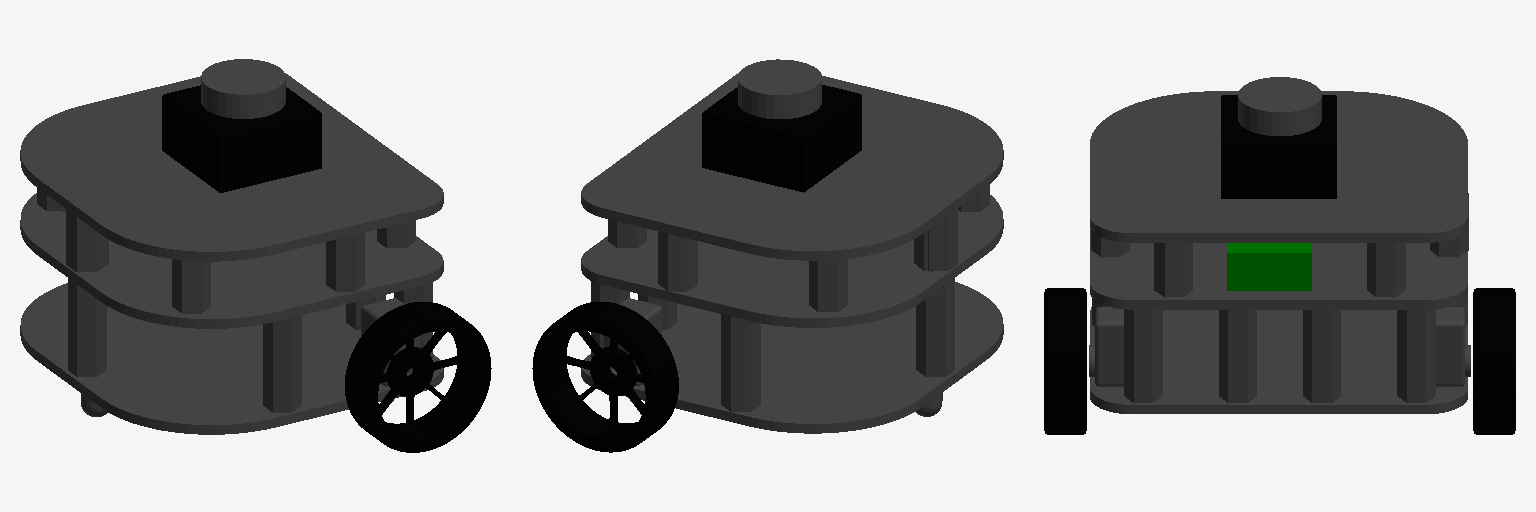
robot.urdf — supermarketbot:
<?xml version="1.0" ?>
<!-- =================================================================================== -->
<!-- |    This document was autogenerated by xacro from supermarketbot.xacro           | -->
<!-- |    EDITING THIS FILE BY HAND IS NOT RECOMMENDED                                 | -->
<!-- =================================================================================== -->
<robot name="supermarketbot">
  <mujoco>
    <compiler discardvisual="false" balanceinertia="true" meshdir="."/>
  </mujoco>
  <!--Links-->
  <link name="base_link"/>
  <link name="chassis_link">
    <inertial>
      <origin rpy="0 0 0" xyz="0 0 0"/>
      <mass value="1.0"/>
      <!-- Approximate box inertia: Ixx = (1/12)m*(h^2 + d^2), etc. -->
      <inertia ixx="0.02" ixy="0" ixz="0" iyy="0.03" iyz="0" izz="0.015"/>
    </inertial>
    <visual>
      <origin rpy="0 0 0" xyz="0 0 0"/>
      <geometry>
        <mesh filename="package://amr_bot/models/meshes/chassis_l1.stl" scale="0.001 0.001 0.001"/>
      </geometry>
      <material name="1">
        <color rgba="0.3 0.3 0.3 1.0"/>
      </material>
    </visual>
    <visual>
      <origin rpy="0 0 0" xyz="0 0 0"/>
      <geometry>
        <mesh filename="package://amr_bot/models/meshes/chassis_l2.stl" scale="0.001 0.001 0.001"/>
      </geometry>
      <material name="base_link_material">
        <color rgba="0.3 0.3 0.3 1.0"/>
      </material>
    </visual>
    <visual>
      <origin rpy="0 0 0" xyz="0 0 0"/>
      <geometry>
        <mesh filename="package://amr_bot/models/meshes/chassis_l3.stl" scale="0.001 0.001 0.001"/>
      </geometry>
      <material name="2">
        <color rgba="0.3 0.3 0.3 1.0"/>
      </material>
    </visual>
    <collision>
      <origin rpy="0 0 0" xyz="0 0.009 0.066"/>
      <geometry>
        <box size="0.16065 0.18 0.1"/>
      </geometry>
    </collision>
    <collision>
      <origin xyz="-0.064 0.0105 0.01"/>
      <geometry>
        <cylinder length="0.02" radius="0.009"/>
      </geometry>
    </collision>
  </link>
  <link name="left_wheel_link">
    <inertial>
      <origin rpy="0 0 0" xyz="0 0 0"/>
      <mass value="0.2"/>
      <inertia ixx="0.0001" ixy="0" ixz="0" iyy="0.0002" iyz="0" izz="0.0001"/>
    </inertial>
    <!--Base Link Layer 1 mesh-->
    <visual>
      <origin rpy="0 0 3.141592653589793" xyz="0 0 0"/>
      <geometry>
        <mesh filename="package://amr_bot/models/meshes/wheel.stl" scale="0.001 0.001 0.001"/>
      </geometry>
      <material name="3">
        <color rgba="0.02 0.02 0.02 1.0"/>
      </material>
    </visual>
    <collision>
      <origin rpy="1.57 0 0" xyz="0 0 0"/>
      <geometry>
        <cylinder length="0.02" radius="0.035"/>
      </geometry>
    </collision>
  </link>
  <link name="right_wheel_link">
    <inertial>
      <origin rpy="0 0 0" xyz="0 0 0"/>
      <mass value="0.2"/>
      <inertia ixx="0.0001" ixy="0" ixz="0" iyy="0.0002" iyz="0" izz="0.0001"/>
    </inertial>
    <visual>
      <origin rpy="0 0 0" xyz="0 0 0"/>
      <geometry>
        <mesh filename="package://amr_bot/models/meshes/wheel.stl" scale="0.001 0.001 0.001"/>
      </geometry>
      <material name="4">
        <color rgba="0.02 0.02 0.02 1.0"/>
      </material>
    </visual>
    <collision>
      <origin rpy="1.57 0 0" xyz="0.0 0.0 0.0"/>
      <geometry>
        <cylinder length="0.02" radius="0.035"/>
      </geometry>
    </collision>
  </link>
  <link name="lidar_link">
    <inertial>
      <origin rpy="0 0 0" xyz="0 0 0"/>
      <mass value="0.15"/>
      <inertia ixx="1e-4" ixy="0" ixz="0" iyy="1e-4" iyz="0" izz="2e-4"/>
    </inertial>
    <visual>
      <origin rpy="0 0 0" xyz="-0 -9e-06 -0.000115"/>
      <geometry>
        <mesh filename="package://amr_bot/models/meshes/lidar_base_link.stl" scale="0.001 0.001 0.001"/>
      </geometry>
      <material name="5">
        <color rgba="0.020 0.020 0.020 1.0"/>
      </material>
    </visual>
    <visual>
      <origin xyz="0.015 0.01 0.15"/>
      <geometry>
        <cylinder length="0.015" radius="0.02"/>
      </geometry>
      <material name="6">
        <color rgba="0.3 0.3 0.3 1.0"/>
      </material>
    </visual>
    <collision>
      <origin rpy="0 0 0" xyz="0.015 0.01 0.13"/>
      <geometry>
        <box size="0.06 0.06 0.06"/>
      </geometry>
    </collision>
  </link>
  <link name="camera_link">
    <inertial>
      <origin rpy="0 0 0" xyz="0 0 0"/>
      <mass value="0.05"/>
      <inertia ixx="1e-4" ixy="0" ixz="0" iyy="1e-4" iyz="0" izz="2e-4"/>
    </inertial>
    <visual>
      <origin rpy="0 0 0" xyz="0.06 0.005 0.09"/>
      <geometry>
        <box size="0.02 0.04 0.02"/>
      </geometry>
      <material name="camera_material">
        <color rgba="0.0 0.5 0.0 1.0"/>
      </material>
    </visual>
  </link>
  <!-- Joints-->
  <joint name="base_link_to_chassis_link" type="fixed">
    <parent link="base_link"/>
    <child link="chassis_link"/>
    <origin rpy="0 0 0" xyz="0 0 0"/>
  </joint>
  <joint name="camera_link_to_chassis_link" type="fixed">
    <parent link="chassis_link"/>
    <child link="camera_link"/>
    <origin rpy="0 0 0" xyz="0 0 0"/>
  </joint>
  <joint name="left_wheel_link_to_chassis_link_joint" type="continuous">
    <parent link="chassis_link"/>
    <child link="left_wheel_link"/>
    <origin rpy="0 0 0" xyz="0.051 0.1125 0.034"/>
    <axis xyz="0.0 1.0 0.0"/>
  </joint>
  <joint name="right_wheel_link_to_chassis_link_joint" type="continuous">
    <origin rpy="0 0 0" xyz="0.051 -0.0925 0.034"/>
    <parent link="chassis_link"/>
    <child link="right_wheel_link"/>
    <axis xyz="0.0 1.0 0.0"/>
  </joint>
  <joint name="lidar_link_to_chassis_link_joint" type="fixed">
    <origin rpy="0 0 0" xyz="0 0 0"/>
    <parent link="chassis_link"/>
    <child link="lidar_link"/>
  </joint>
  <!--Gazebo Plugins and Sensors-->
  <gazebo>
    <!-- Sensors system plugin -->
    <plugin filename="gz-sim-sensors-system" name="gz::sim::systems::Sensors">
      <render_engine>ogre2</render_engine>
    </plugin>
    <!-- Diff drive plugin -->
    <plugin filename="gz-sim-diff-drive-system" name="gz::sim::systems::DiffDrive">
      <left_joint>left_wheel_link_to_chassis_link_joint</left_joint>
      <right_joint>right_wheel_link_to_chassis_link_joint</right_joint>
      <!-- kinematics -->
      <wheel_separation>0.205</wheel_separation>
      <wheel_radius>0.035</wheel_radius>
      <!-- limits -->
      <max_linear_acceleration>1</max_linear_acceleration>
      <min_linear_acceleration>-1</min_linear_acceleration>
      <max_angular_acceleration>2</max_angular_acceleration>
      <min_angular_acceleration>-2</min_angular_acceleration>
      <max_linear_velocity>0.5</max_linear_velocity>
      <min_linear_velocity>-0.5</min_linear_velocity>
      <max_angular_velocity>1</max_angular_velocity>
      <min_angular_velocity>-1</min_angular_velocity>
      <!-- input -->
      <topic>/cmd_vel</topic>
      <!-- output -->
      <odom_topic>/odom</odom_topic>
      <tf_topic>/tf</tf_topic>
      <frame_id>odom</frame_id>
      <child_frame_id>base_link</child_frame_id>
    </plugin>
    <!-- Joint state publisher plugin -->
    <plugin filename="gz-sim-joint-state-publisher-system" name="gz::sim::systems::JointStatePublisher">
      <topic>joint_states</topic>
    </plugin>
    <!-- True pose for the gazebo_lidar node (/odom above is wheel odometry and drifts) -->
    <plugin filename="gz-sim-odometry-publisher-system" name="gz::sim::systems::OdometryPublisher">
      <odom_frame>world</odom_frame>
      <robot_base_frame>base_link</robot_base_frame>
      <odom_topic>/ground_truth/odom</odom_topic>
      <tf_topic>/ground_truth/tf</tf_topic>
      <odom_publish_frequency>50</odom_publish_frequency>
      <dimensions>2</dimensions>
    </plugin>
  </gazebo>
  <!-- The caster is a flat cylinder under the chassis: with default friction it drags and the
       wheels slip when turning in place. Only the Gazebo backend reads this. -->
  <gazebo reference="chassis_link">
    <mu1>0.01</mu1>
    <mu2>0.01</mu2>
  </gazebo>
  <!-- Lidar Sensor -->
  <gazebo reference="lidar_link">
    <sensor name="gpu_lidar" type="gpu_lidar">
      <pose>0.015 0.01 0.15 0 0 0</pose>
      <topic>/scan</topic>
      <update_rate>10</update_rate>
      <always_on>true</always_on>
      <visualize>true</visualize>
      <gz_frame_id>lidar_link</gz_frame_id>
      <lidar>
        <scan>
          <horizontal>
            <samples>360</samples>
            <resolution>1</resolution>
            <min_angle>-3.14159</min_angle>
            <max_angle>3.14159</max_angle>
          </horizontal>
          <vertical>
            <samples>1</samples>
            <resolution>1</resolution>
            <min_angle>0</min_angle>
            <max_angle>0</max_angle>
          </vertical>
        </scan>
        <range>
          <min>0.1</min>
          <max>10.0</max>
          <resolution>0.01</resolution>
        </range>
        <noise>
          <type>gaussian</type>
          <mean>0.0</mean>
          <stddev>0.01</stddev>
        </noise>
      </lidar>
    </sensor>
  </gazebo>
  <!-- Camera Sensor -->
  <gazebo reference="camera_link">
    <sensor name="rgb_camera" type="camera">
      <pose>0.06 0.005 0.09 0 0 0</pose>
      <always_on>true</always_on>
      <visualize>true</visualize>
      <update_rate>30.0</update_rate>
      <topic>/rgb_camera/image</topic>
      <camera>
        <horizontal_fov>1.047198</horizontal_fov>
        <image>
          <width>640</width>
          <height>480</height>
          <format>R8G8B8</format>
        </image>
        <clip>
          <near>0.05</near>
          <far>10</far>
        </clip>
      </camera>
    </sensor>
  </gazebo>
</robot>

--- Render facts (derived) ---
Views: 3 orthographic renders of the robot side by side, from view 1: azimuth 30°, elevation 25°; view 2: azimuth 150°, elevation 25°; view 3: azimuth 270°, elevation 25°.
Robot: supermarketbot — 6 links, 5 joints (2 continuous, 3 fixed); root link base_link; default pose: all joints at 0.
Visible links, largest first — view 1: chassis_link, lidar_link, right_wheel_link; view 2: chassis_link, lidar_link, left_wheel_link; view 3: chassis_link, lidar_link, left_wheel_link, right_wheel_link, camera_link.
Boxes of the visible links, x1,y1,x2,y2 form: chassis_link: (20,73,443,434); lidar_link: (162,59,321,192); right_wheel_link: (345,302,491,452); chassis_link: (581,73,1003,433); lidar_link: (702,59,861,192); left_wheel_link: (532,302,678,452); chassis_link: (1089,91,1470,413); lidar_link: (1221,77,1336,198); left_wheel_link: (1473,288,1515,434); right_wheel_link: (1044,288,1086,434); camera_link: (1227,243,1311,290).
Bounding box of the posed robot: 0.166 × 0.224 × 0.1583 m (x, y, z).
Meshes: 5 distinct files referenced, 6 mesh visuals loaded (5 binary STL).
